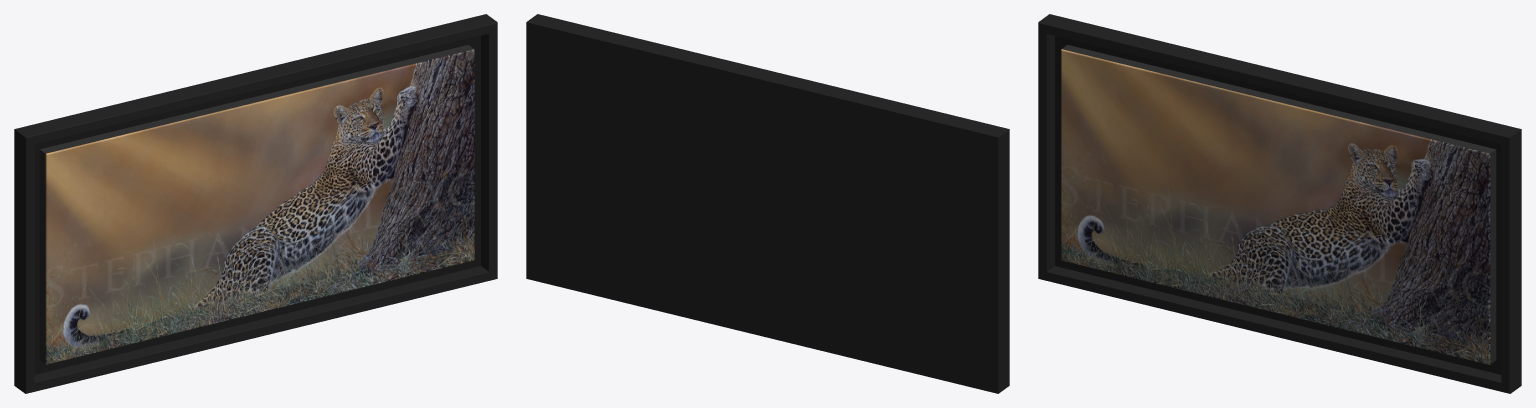
Rendered from tableau-romi-leopard-classique-43da1211.glb.
3 views of the same model, side by side, from view 1: azimuth 30°, elevation 25°; view 2: azimuth 150°, elevation 25°; view 3: azimuth 330°, elevation 25° (orthographic).
Visible parts, largest first — view 1: Painting; view 2: Painting; view 3: Painting.
Boxes of the visible parts, x1,y1,x2,y2 form: Painting: (14, 14, 497, 393); Painting: (526, 14, 1009, 393); Painting: (1038, 14, 1521, 393).
Bounding box in the file's own units: 0.936 × 0.486 × 0.04.
4 materials, 2 textured.
